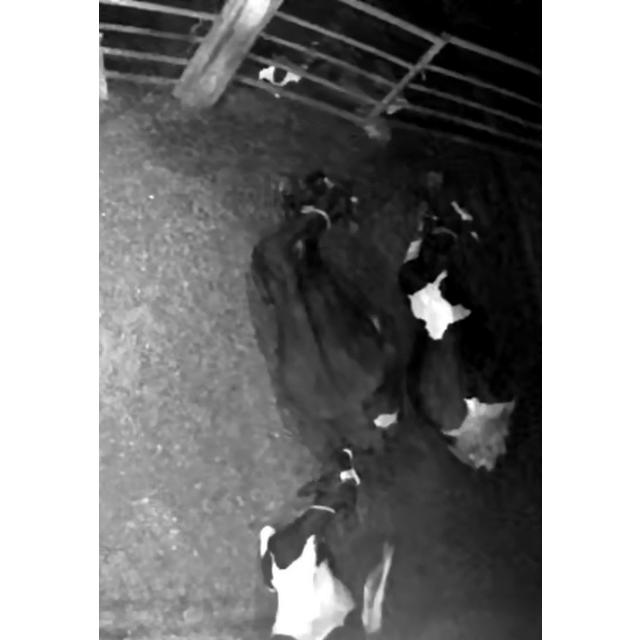lay: (230, 156, 404, 460), (408, 166, 538, 468), (241, 440, 399, 640)
